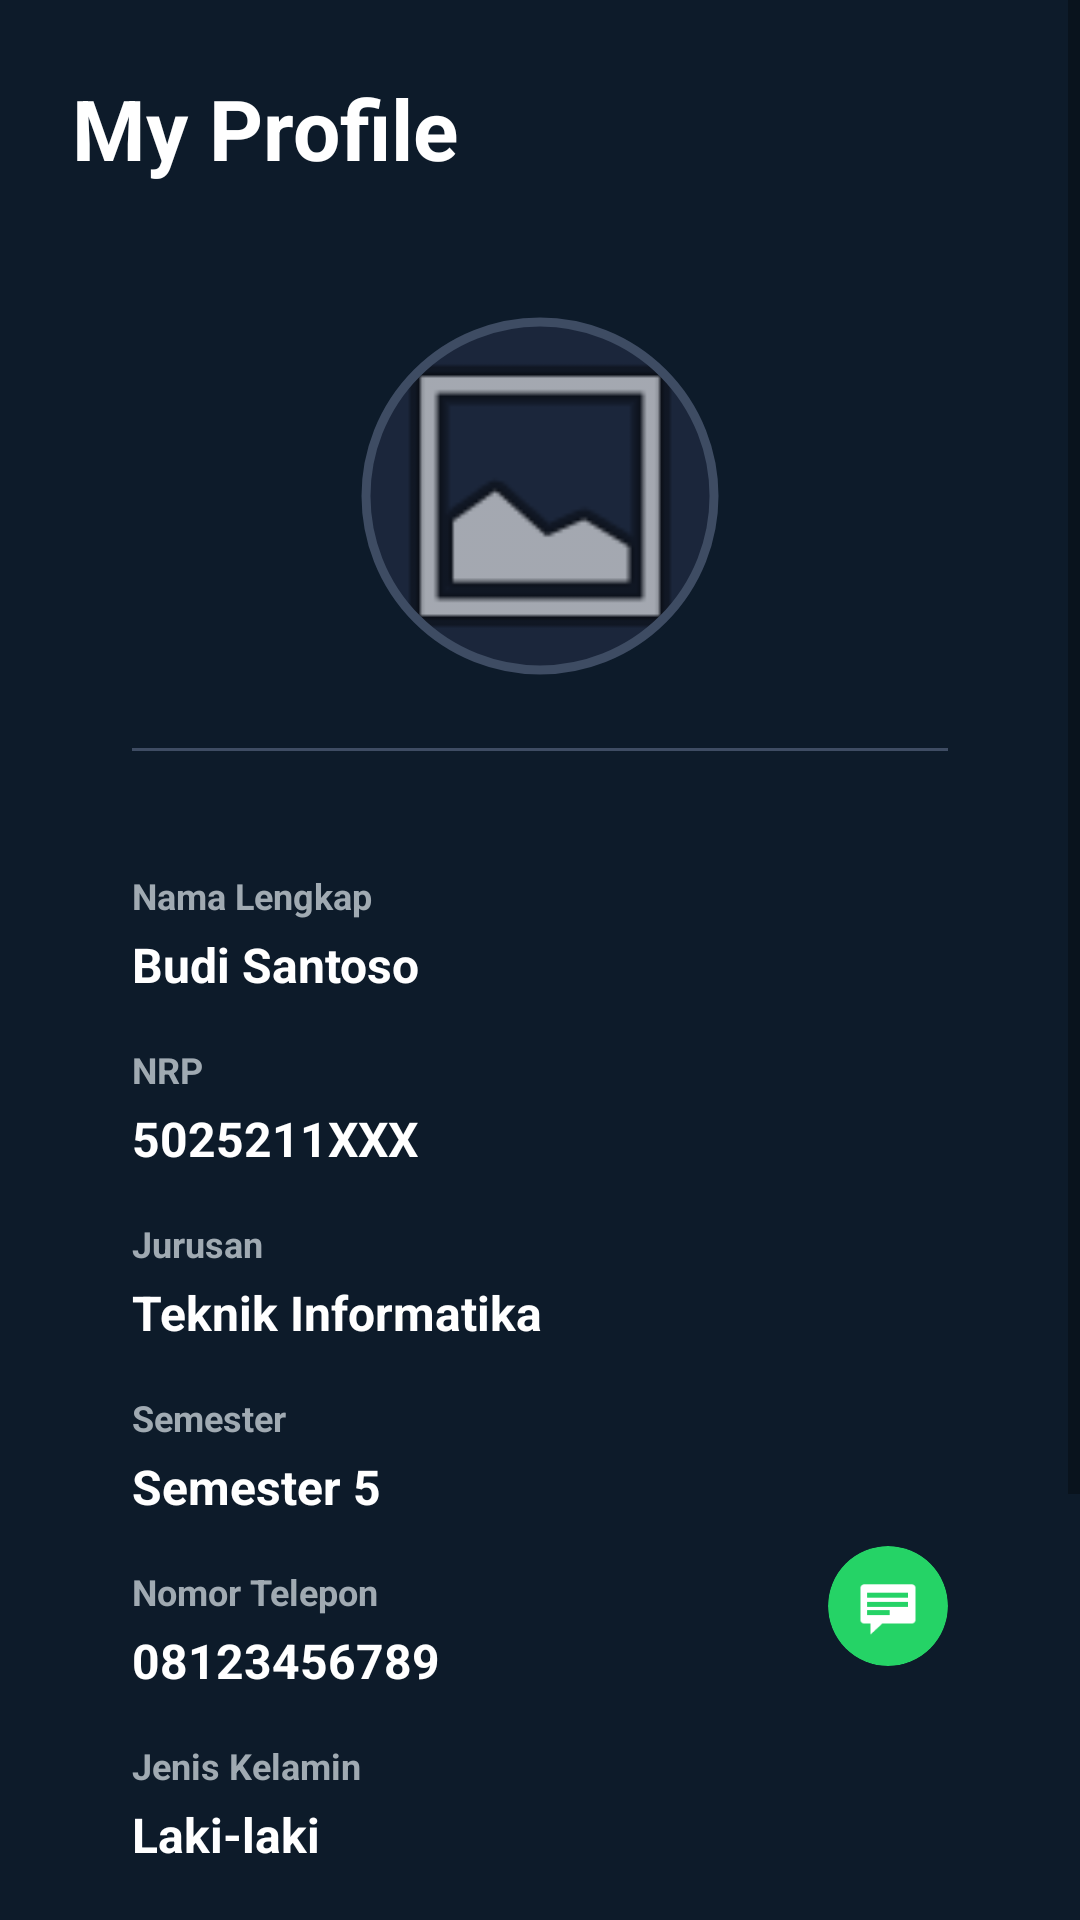

Where to tap for icons on this 1080w x 1920h app screen, as (x=x, y=y):
chat: (x=888, y=1609)
gallery: (x=540, y=496)
